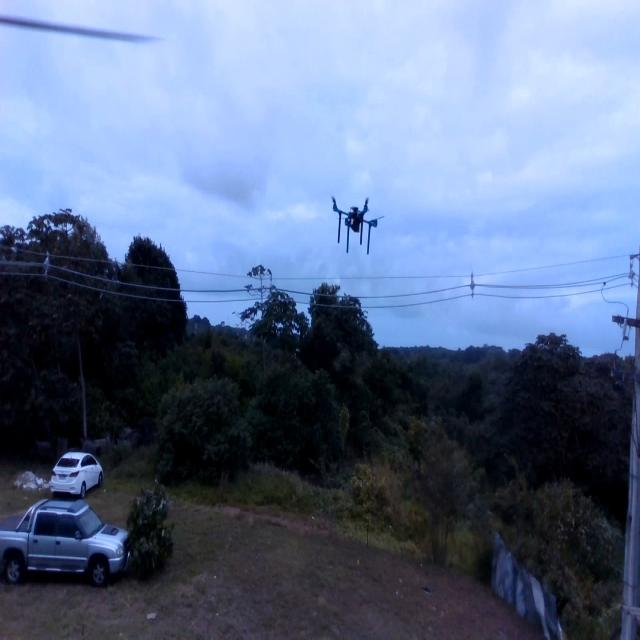-uav-: (324, 185, 387, 267)
